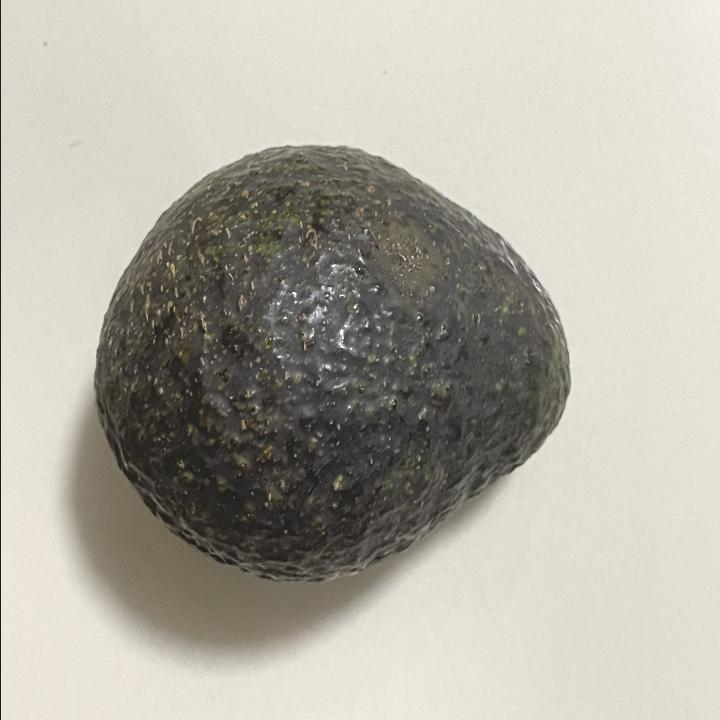Level1: (82, 131, 586, 589)
